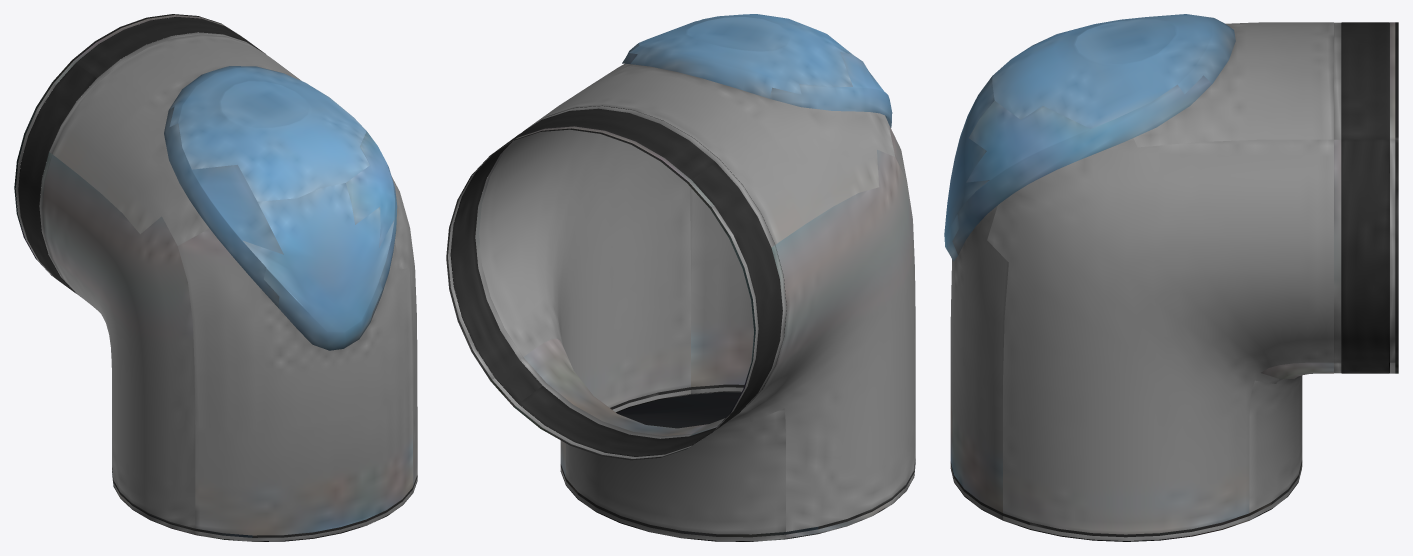
The model's file is wrist_1_link.glb.
3 views of the same model, side by side, from view 1: azimuth 30°, elevation 25°; view 2: azimuth 150°, elevation 25°; view 3: azimuth 270°, elevation 25° (orthographic). The views are drawn at different scales.
Parts seen in each view (by area): view 1: wrist-1-mesh_002, wrist-1-mesh_005, wrist-1-mesh_001; view 2: wrist-1-mesh_002, wrist-1-mesh_001, wrist-1-mesh_005; view 3: wrist-1-mesh_002, wrist-1-mesh_005, wrist-1-mesh_001.
Boxes of the visible parts, x1,y1,x2,y2 form: wrist-1-mesh_002: (15, 15, 417, 541); wrist-1-mesh_005: (164, 66, 397, 350); wrist-1-mesh_001: (14, 14, 417, 537); wrist-1-mesh_002: (448, 63, 915, 541); wrist-1-mesh_001: (446, 108, 915, 537); wrist-1-mesh_005: (622, 14, 892, 127); wrist-1-mesh_002: (950, 22, 1395, 541); wrist-1-mesh_005: (944, 14, 1235, 261); wrist-1-mesh_001: (950, 22, 1398, 537).
Bounding box in the file's own units: 0.1001 × 0.1371 × 0.1292.
Materials: 1 (1 with a texture image).
